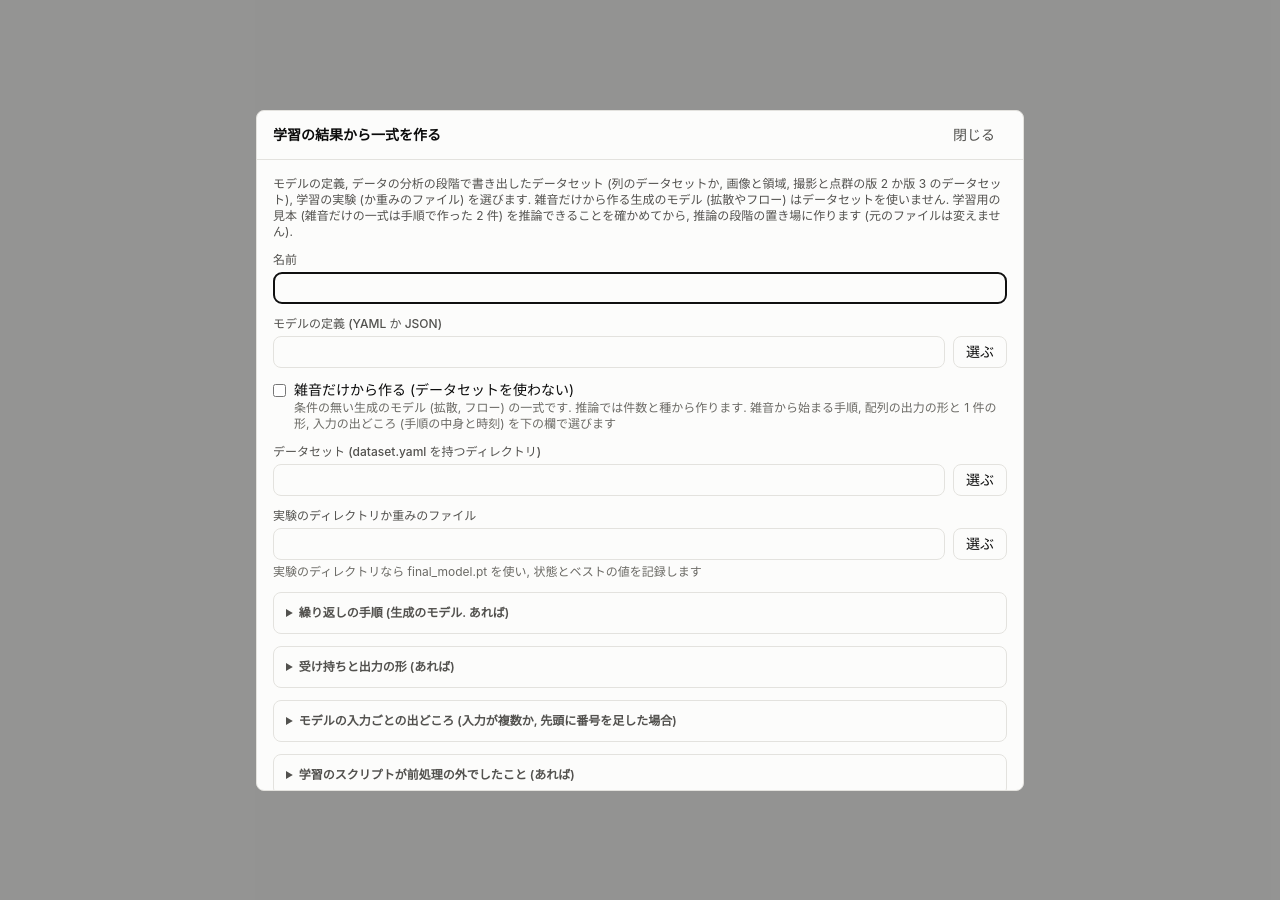
Test: 学習の結果から作る対話 › 雑音だけの一式の誤りに, 繰り返しの手順, 出力の形, 入力の出どころの欄の名前が付く
This screenshot has width=1280, height=900.
Click the checkbox labelled "雑音だけから作る (データセットを使わない)": click(280, 390) x1=273 y1=384 x2=286 y2=396
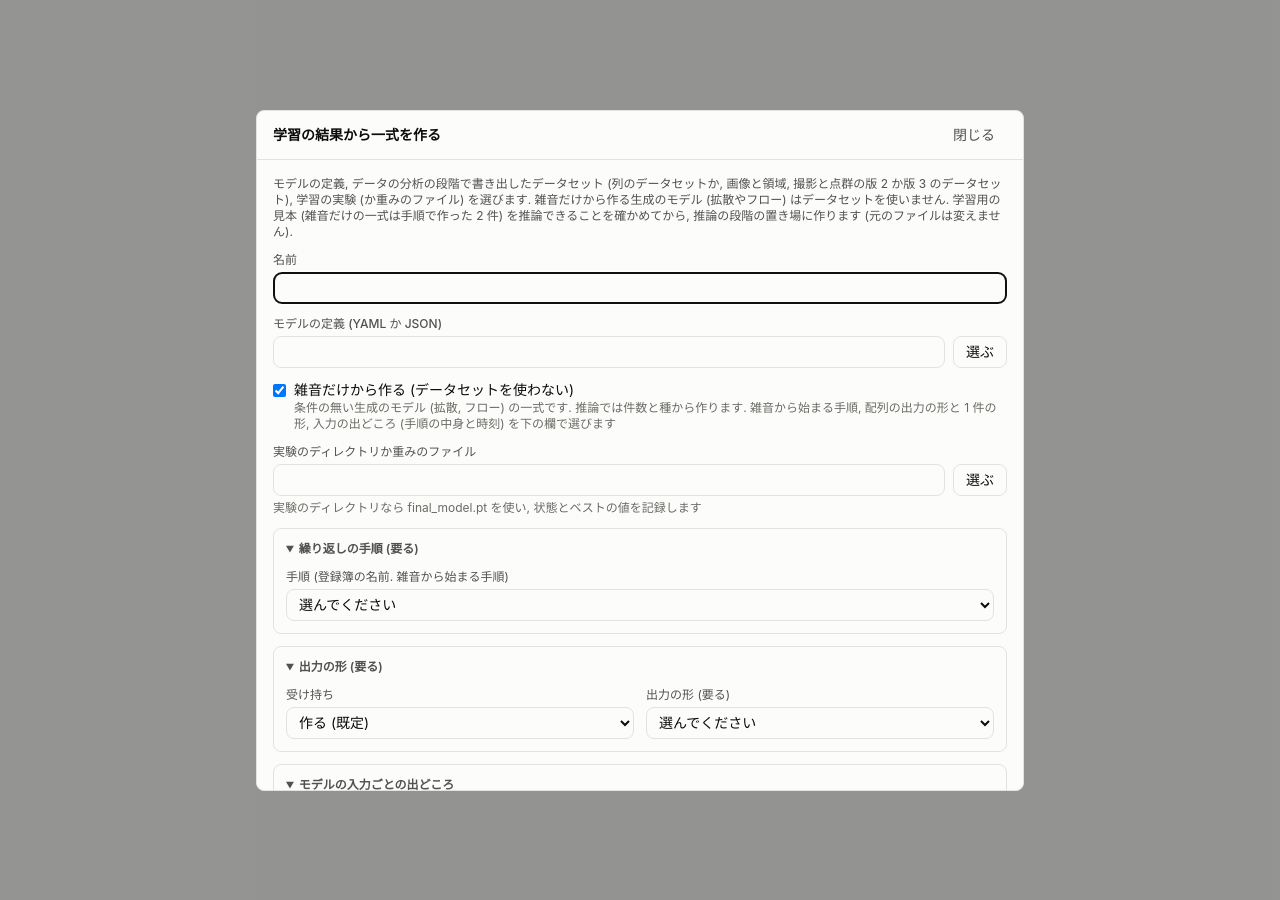
Select "ddim (DDIM)" in the dropdown labelled "手順 (登録簿の名前. 雑音から始まる手順)": (640, 604) x1=286 y1=588 x2=994 y2=620
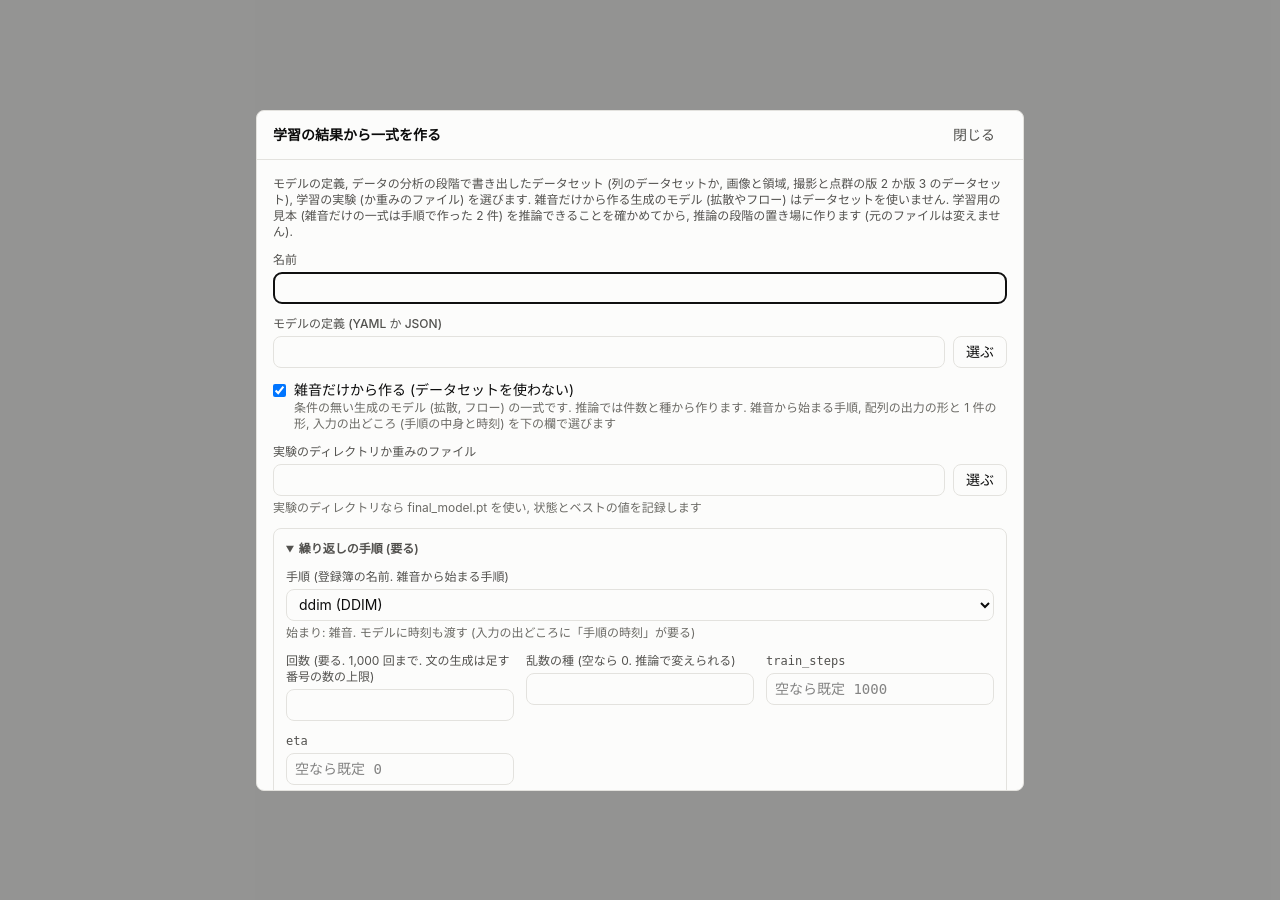
In the number field labelled "回数 (要る. 1,000 回まで. 文の生成は足す番号の数の上限)": (400, 704) x1=286 y1=688 x2=514 y2=720, type "1001"
(page scrolled)
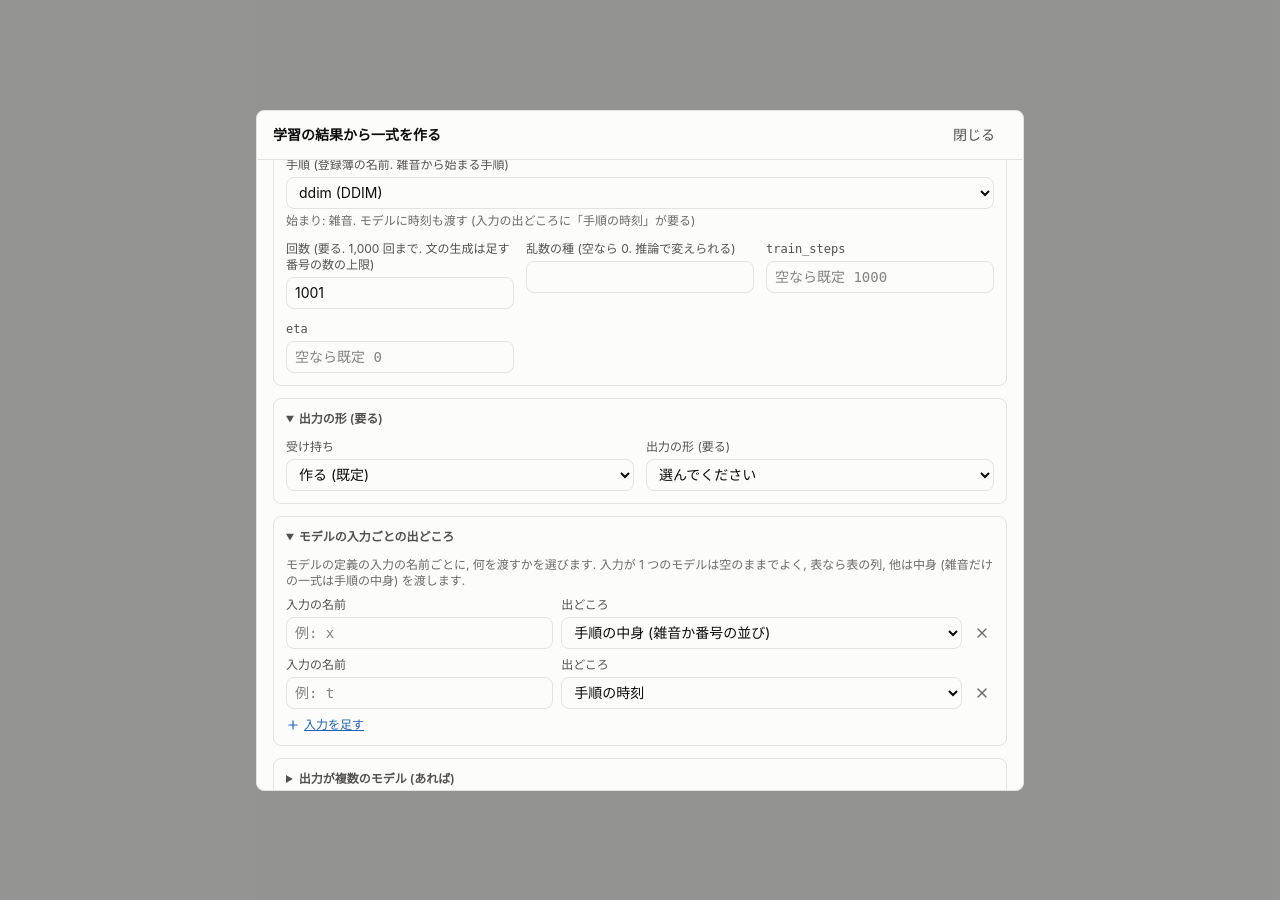
Select "ベクトル" in the dropdown labelled "出力の形 (要る)": (820, 474) x1=646 y1=458 x2=994 y2=490
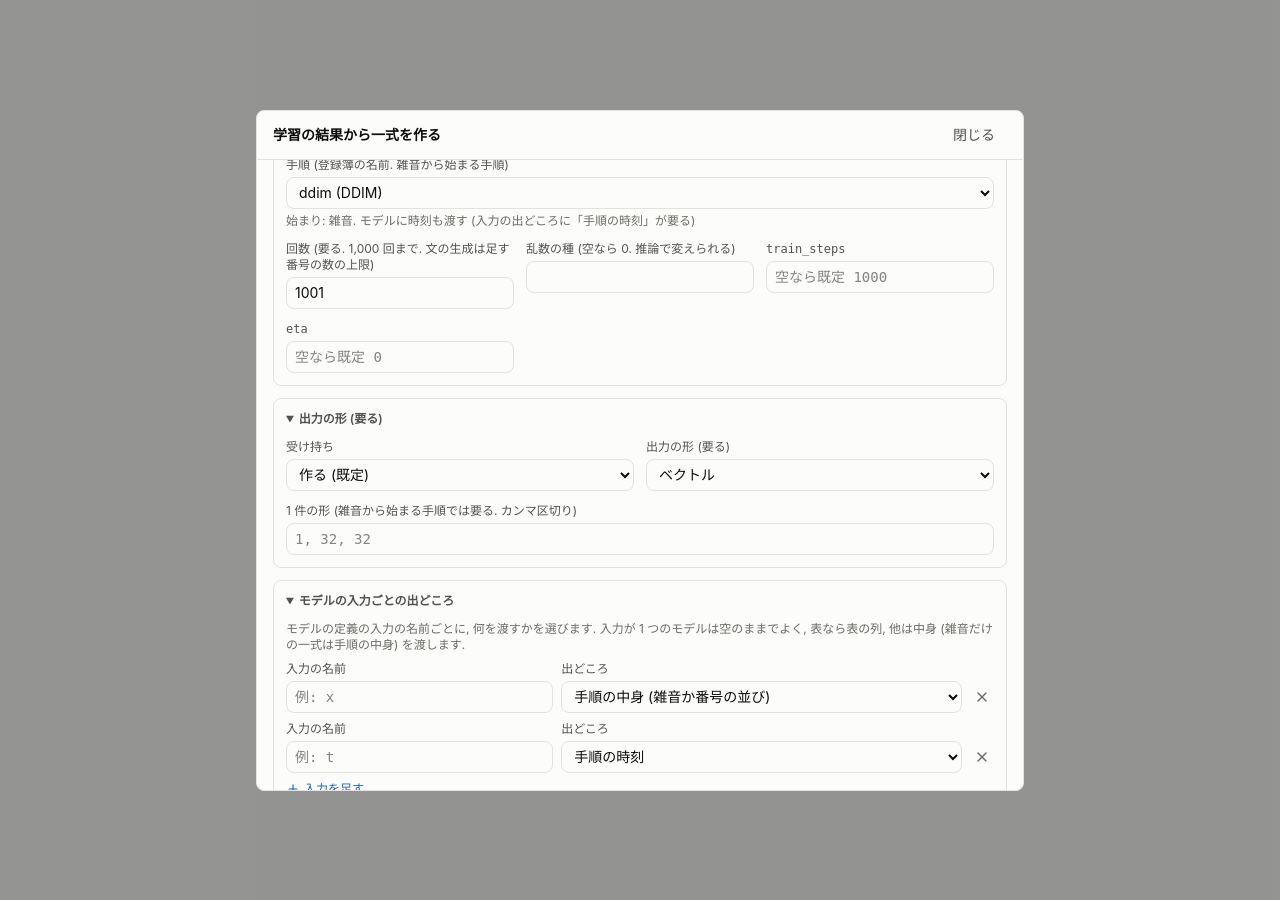
In the field labelled "1 件の形 (雑音から始まる手順では要る. カンマ区切り)": (640, 538) x1=286 y1=522 x2=994 y2=554, type "0"
(page scrolled)
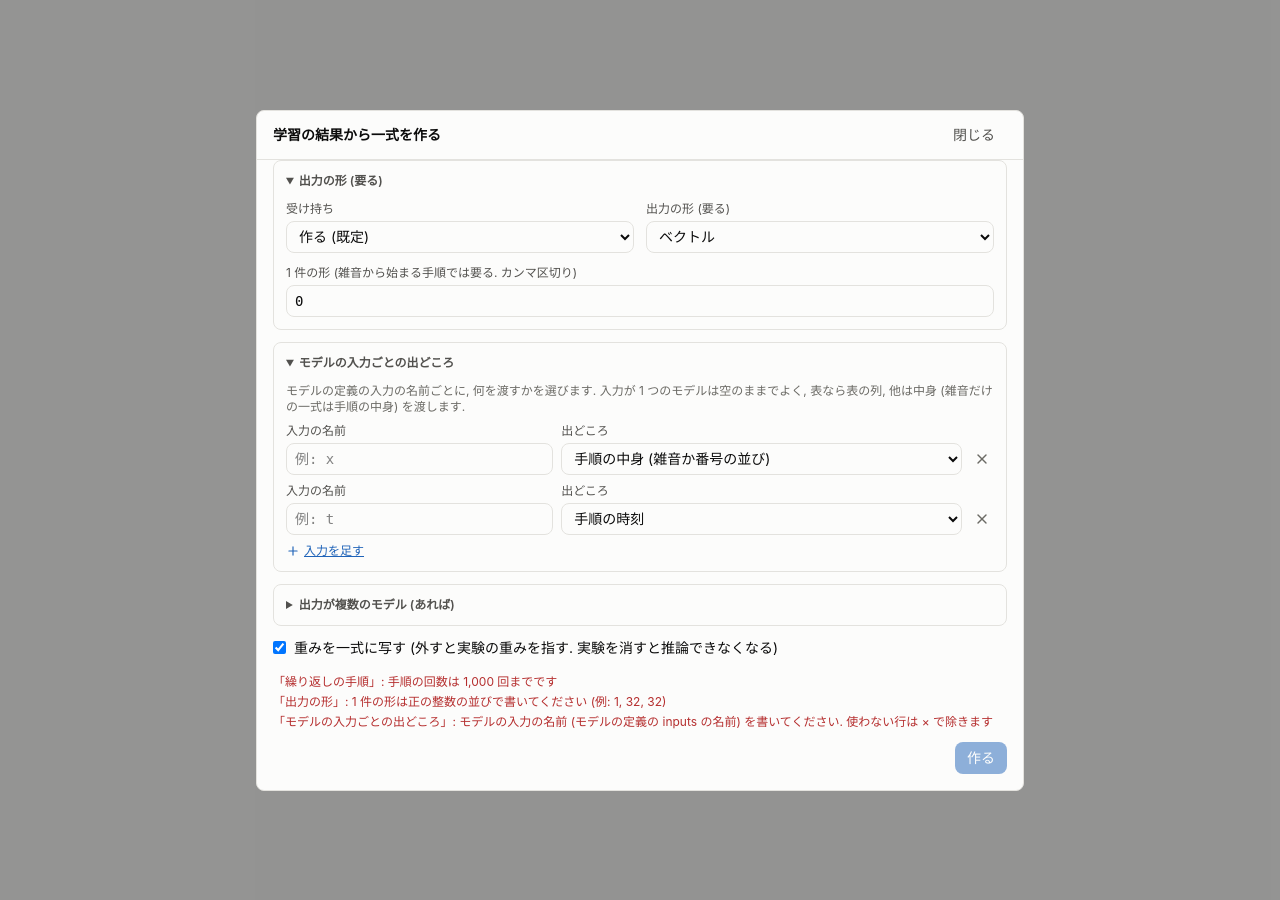
Expected: the text "「繰り返しの手順」: 手順の回数は 1,000 回までです" is shown, x1=273 y1=674 x2=557 y2=688
Expected: the text "「出力の形」: 1 件の形は正の整数の並びで書いてください (例: 1, 32, 32)" is shown, x1=273 y1=694 x2=666 y2=708
Expected: the text "「モデルの入力ごとの出どころ」: モデルの入力の名前" is shown, x1=273 y1=714 x2=993 y2=728
